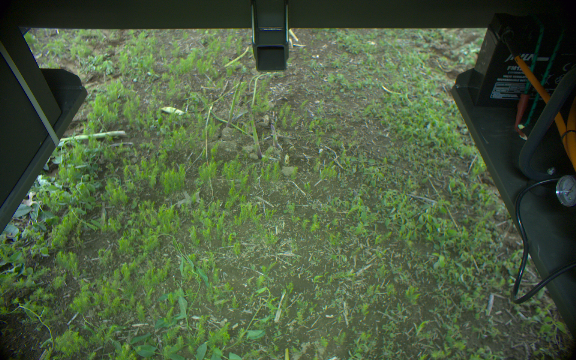aspa: (219, 70, 245, 130), (200, 97, 216, 169), (244, 109, 264, 165), (264, 110, 286, 156)
